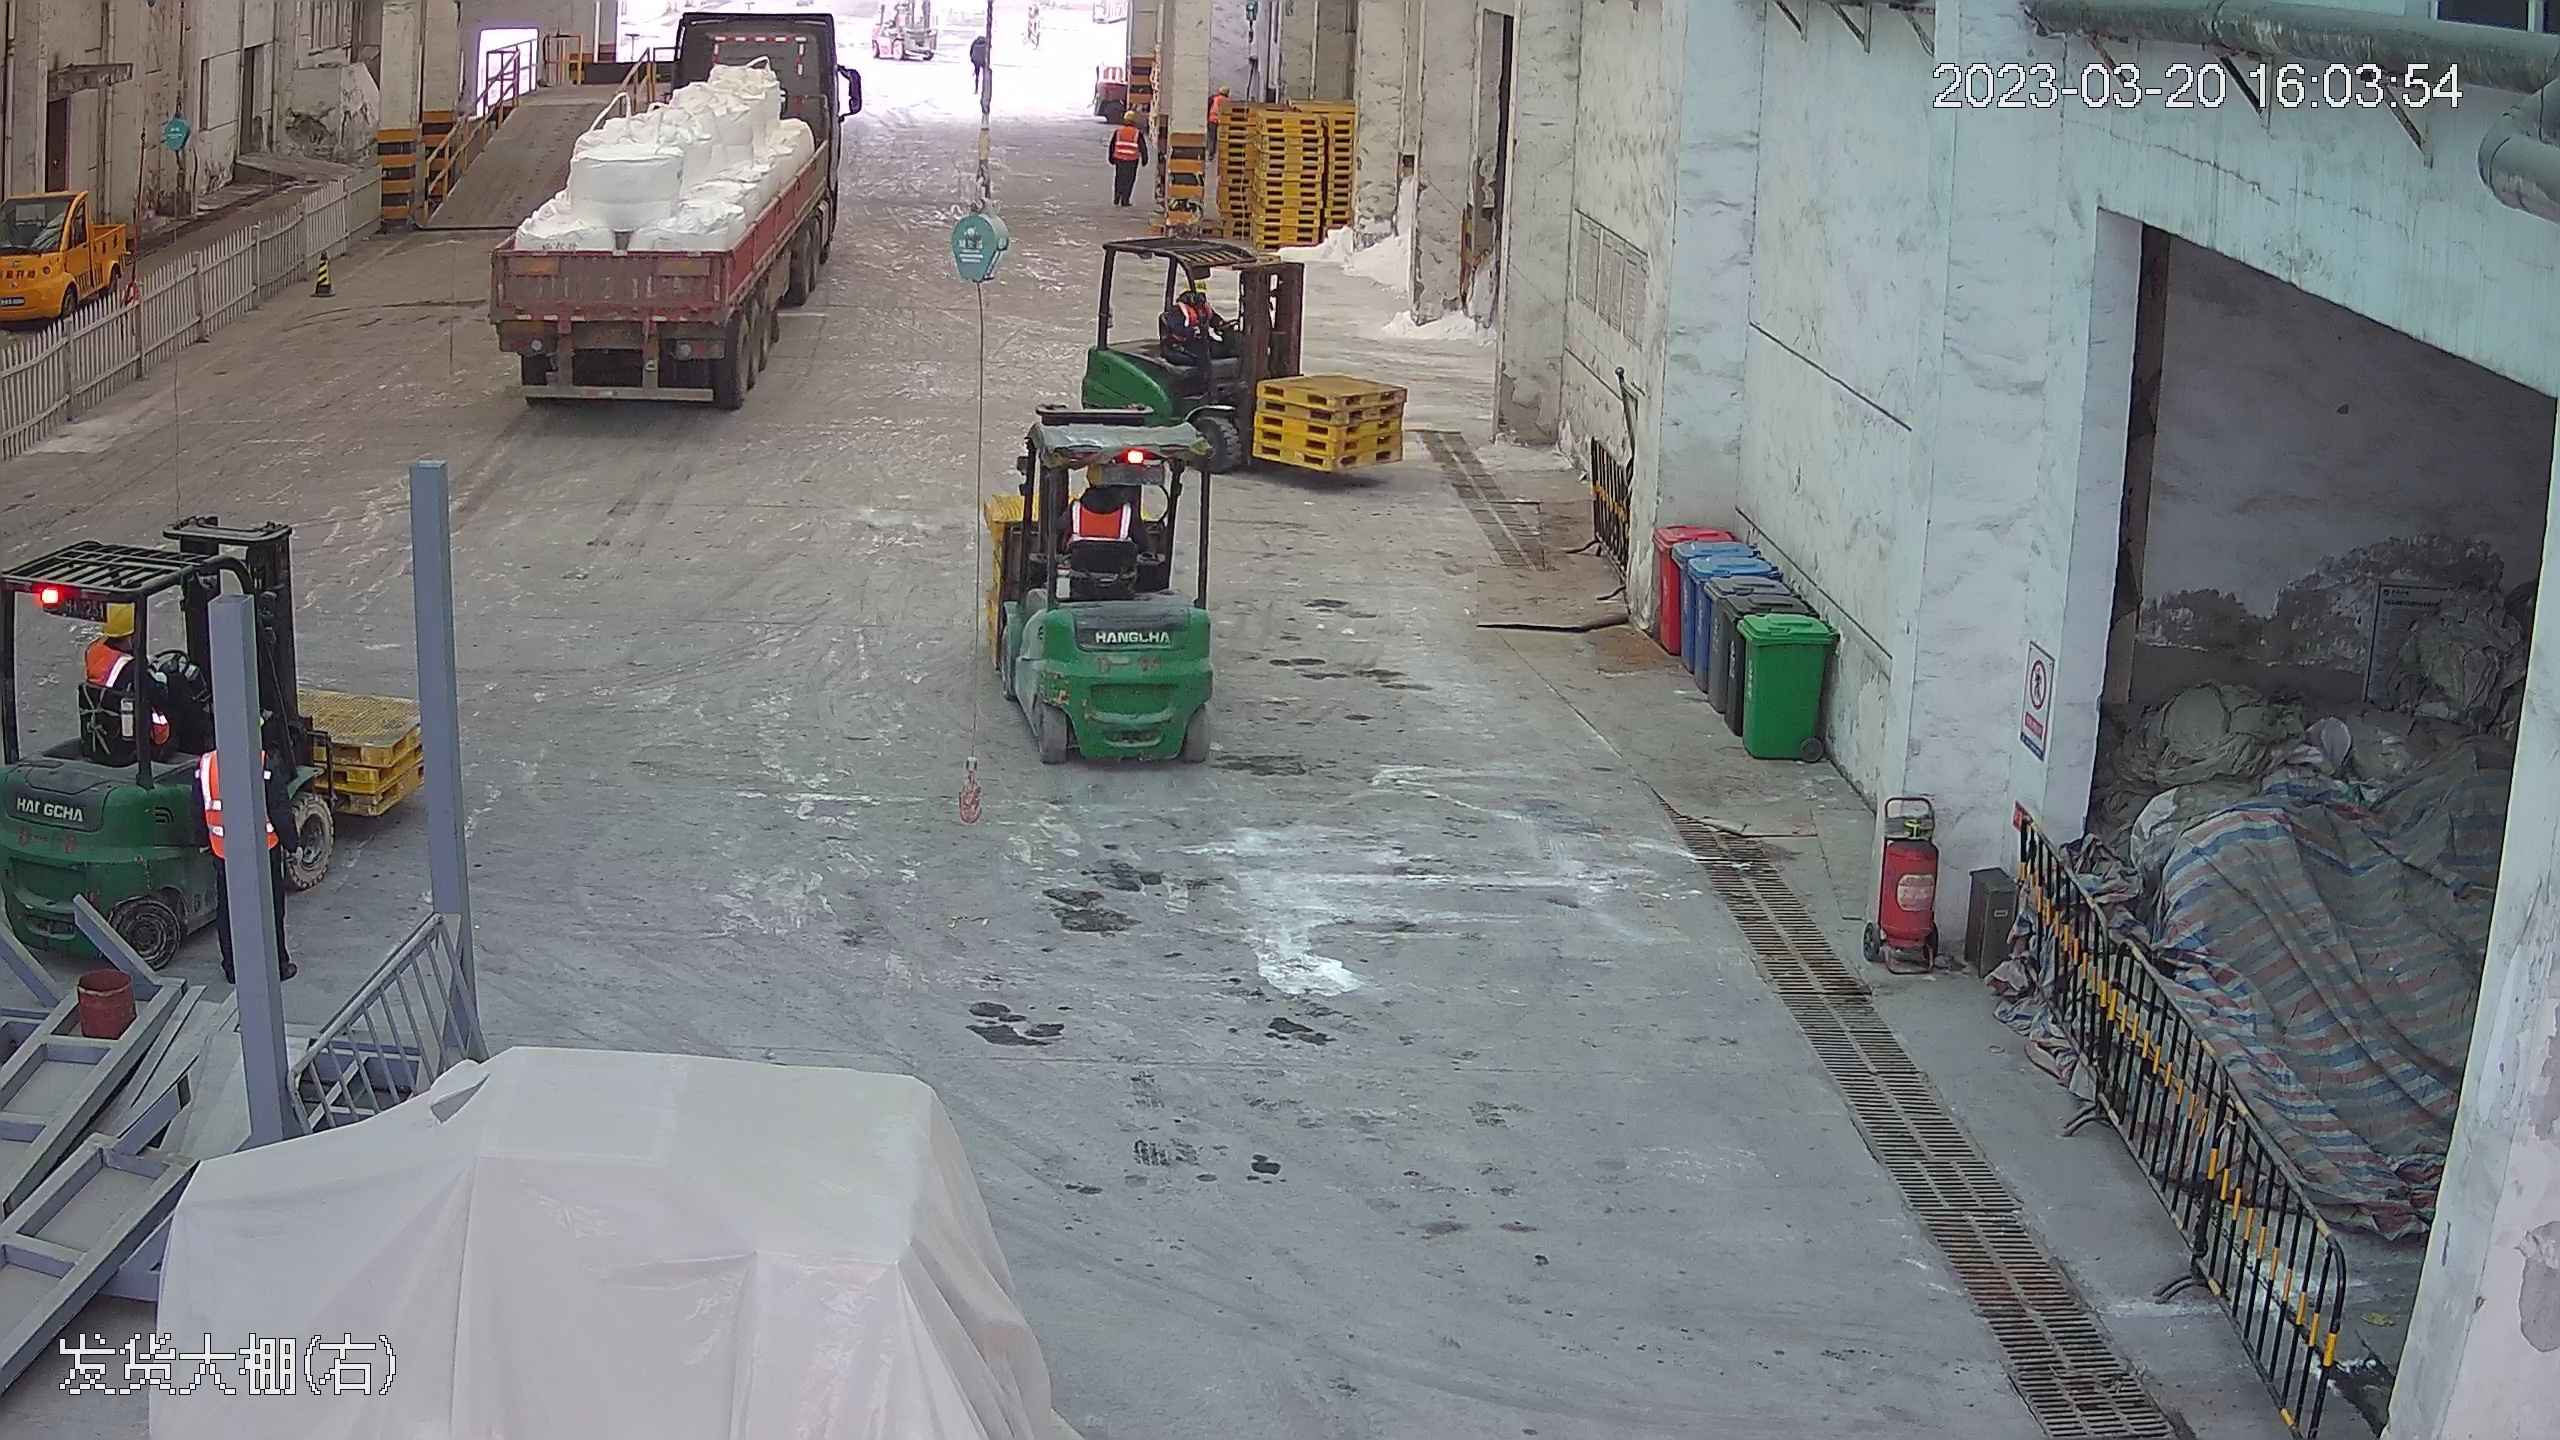head: (82, 599, 155, 690), (1064, 464, 1135, 536), (1170, 274, 1227, 339), (1114, 110, 1143, 145)
helmet: (97, 598, 140, 635), (1180, 272, 1212, 293), (1122, 110, 1136, 121), (1218, 86, 1231, 95)
people: (1107, 107, 1149, 207)
truck: (470, 1, 851, 408)
